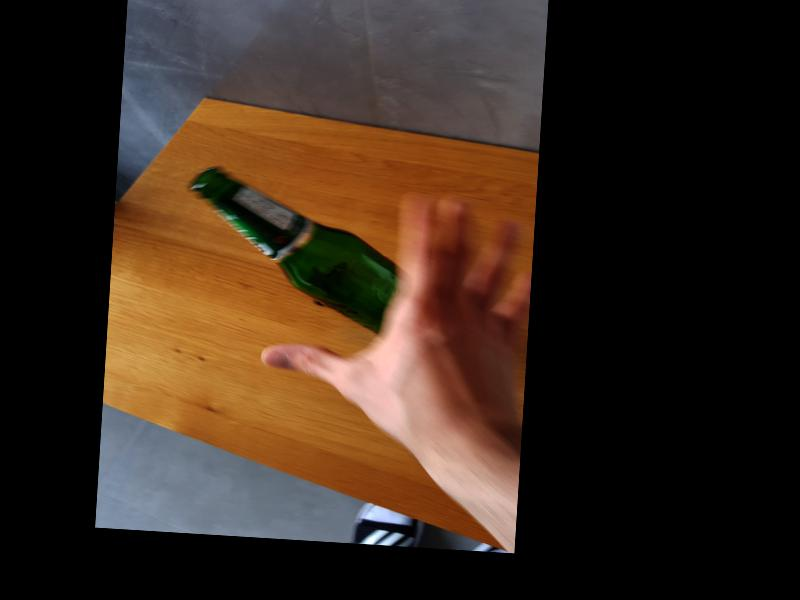Beer: (180, 166, 401, 336)
